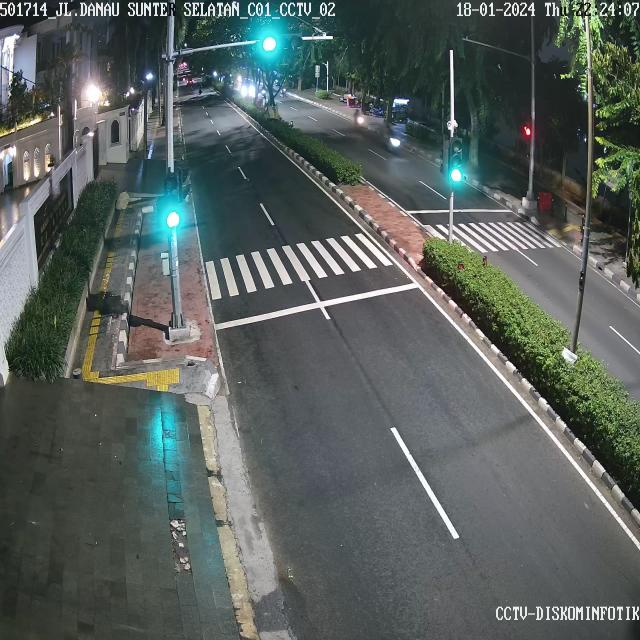Gerobak: (394, 96, 412, 129), (347, 93, 361, 109)
